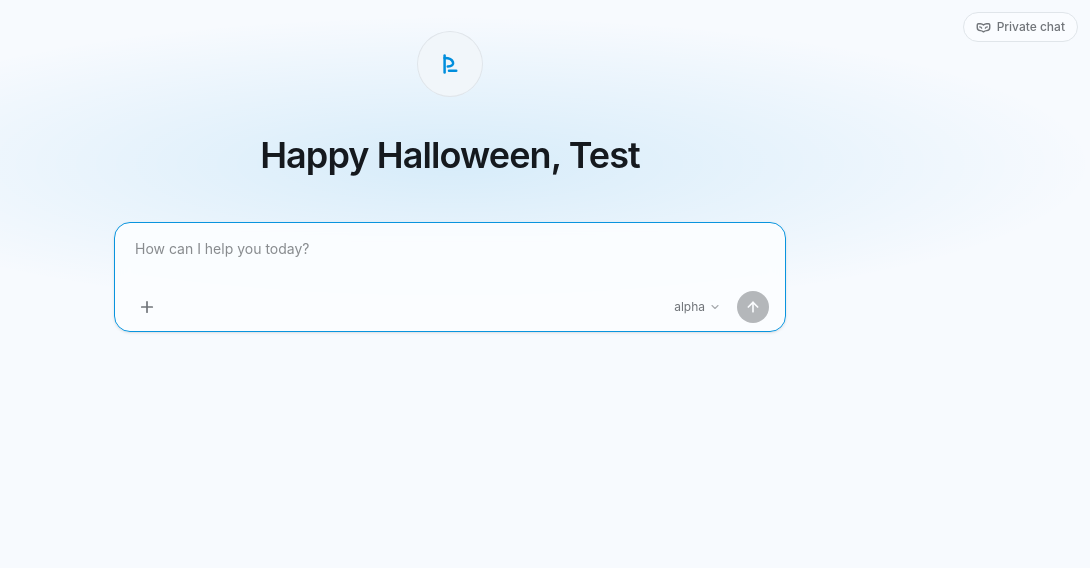
new-chat page — ?model= from the URL › applies the param, then leaves a manual pick alone across a data refresh
The image size is (1090, 568).
Click the button with aria-label "Select model" at (698, 307), box [666,295,729,319]
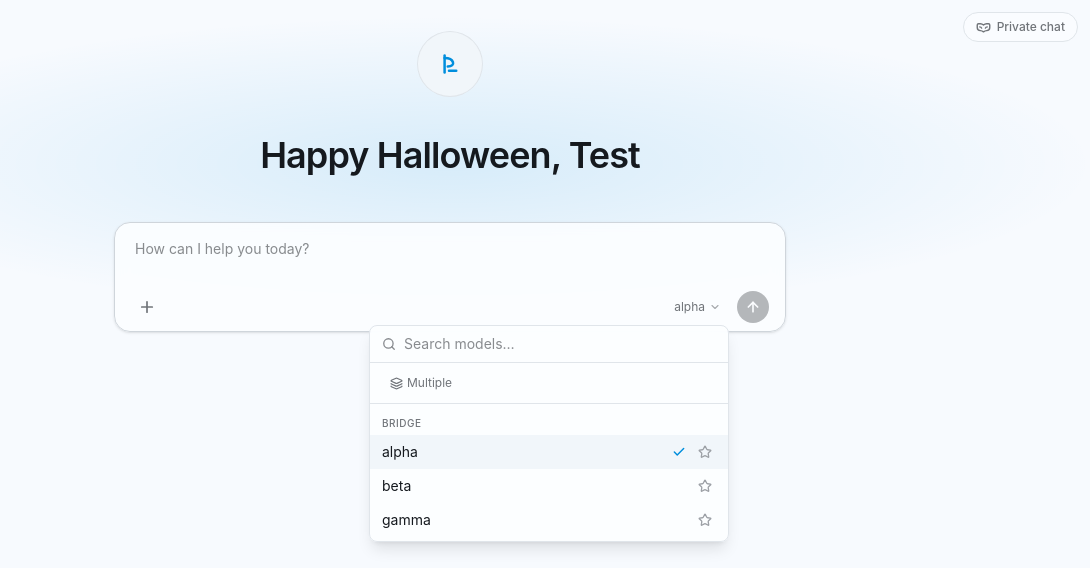
Click the option "beta" at (397, 486), box [382,476,686,496]
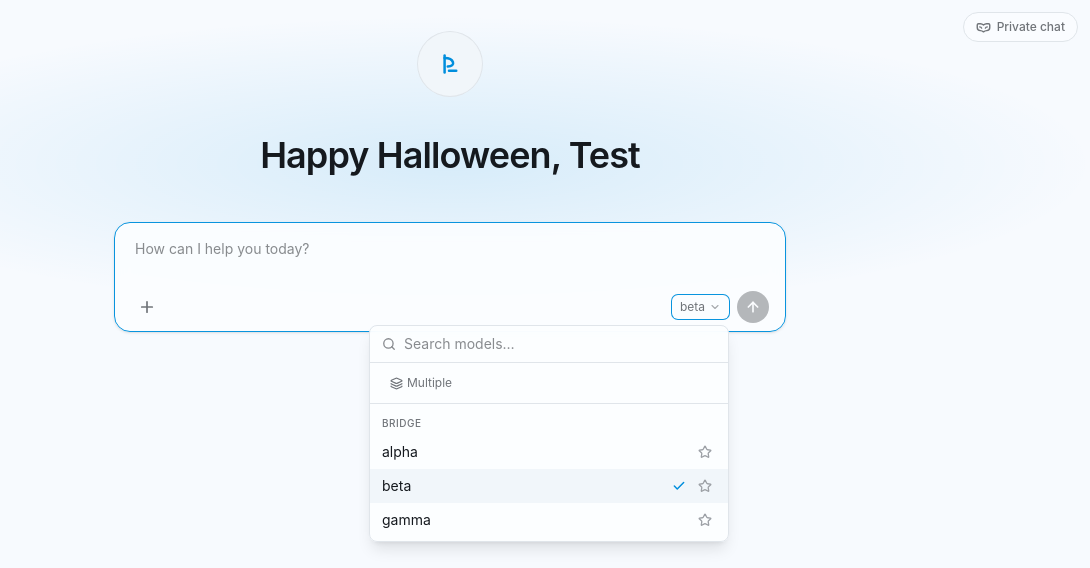
Expected: the 1st text "beta" is shown, [680,299,705,315]
